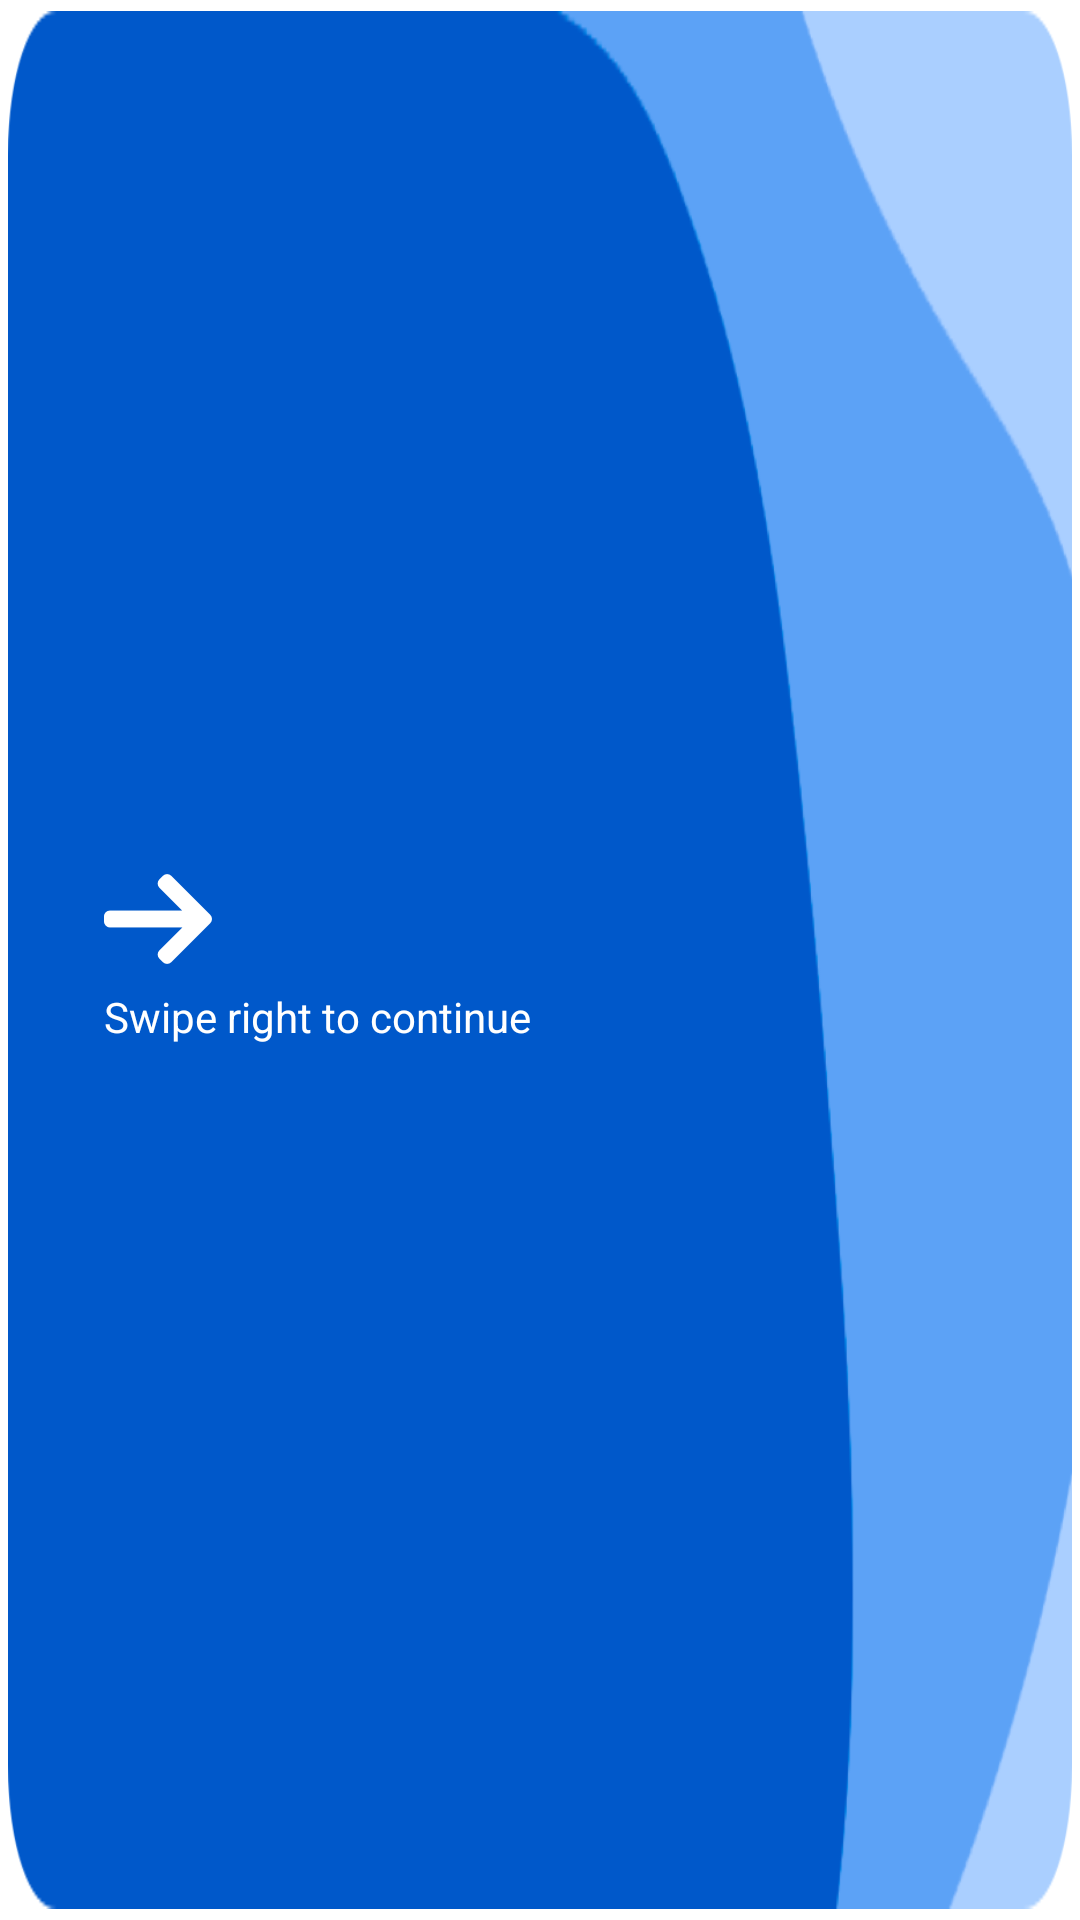

Screen size 1080*1920. Icon name, then its center in pixels as (x=x, y=y):
arrow: (x=158, y=919)
